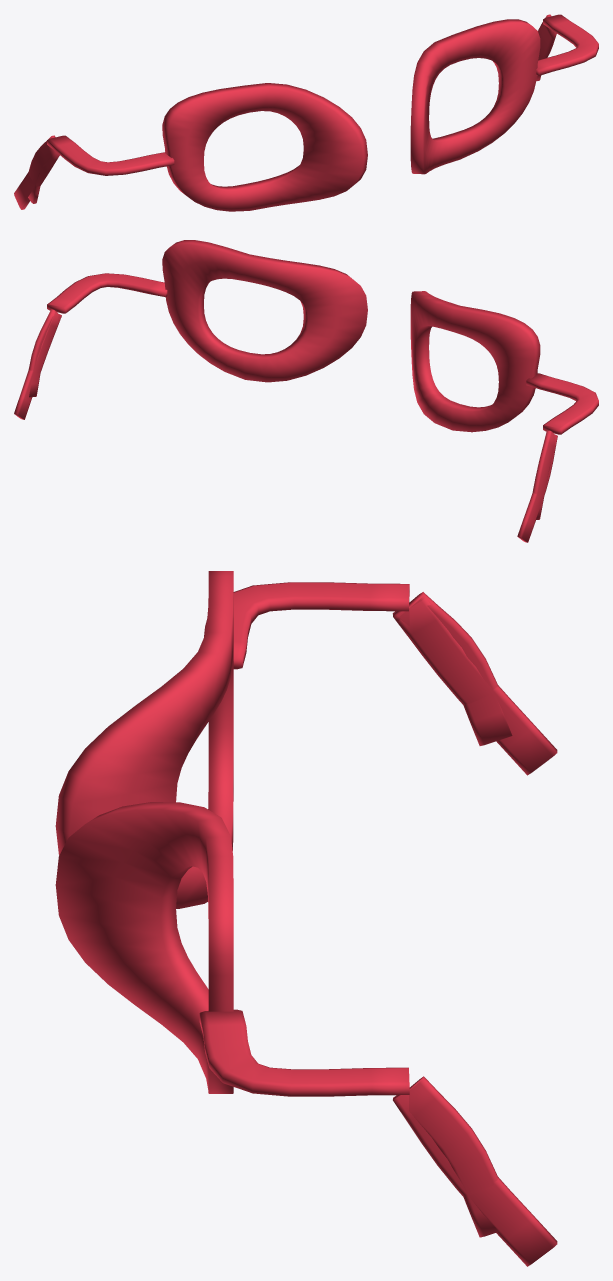
The model's file is hero_mask-fox.glb.
3 renders of one model, top to bottom at view 1: azimuth 30°, elevation 25°; view 2: azimuth 150°, elevation 25°; view 3: azimuth 270°, elevation 25°, orthographic. The views are drawn at different scales.
Visible parts, largest first — view 1: mask.001, mask, tie.001, tie, tail.003, tail.002, tail.001; view 2: mask, mask.001, tie, tie.001, tail.001, tail.002, tail.003, tail; view 3: mask, mask.001, tie, tail.003, tie.001, tail, tail.001, tail.002.
Boxes of the visible parts, box(x1,y1,x2,y2) form: mask.001: box(162, 83, 367, 211); mask: box(410, 19, 540, 174); tie.001: box(47, 135, 174, 175); tie: box(536, 14, 598, 75); tail.003: box(14, 150, 59, 209); tail.002: box(28, 135, 55, 203); tail.001: box(538, 16, 556, 60); mask: box(162, 240, 367, 382); mask.001: box(410, 291, 540, 432); tie: box(47, 273, 167, 313); tie.001: box(526, 373, 598, 434); tail.001: box(14, 312, 61, 419); tail.002: box(532, 430, 555, 519); tail.003: box(517, 434, 557, 542); tail: box(28, 309, 61, 397); mask: box(55, 802, 233, 1093); mask.001: box(55, 571, 233, 908); tie: box(199, 1009, 409, 1096); tail.003: box(392, 598, 557, 775); tie.001: box(204, 582, 409, 669); tail: box(409, 1076, 498, 1237); tail.001: box(393, 1095, 557, 1266); tail.002: box(395, 592, 512, 745).
Bounding box in the file's own units: 1.35 × 0.3604 × 0.5652.
